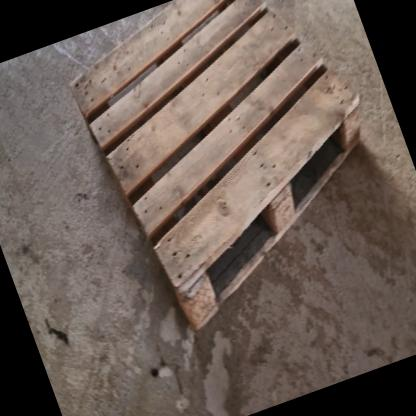BoxFace: (63, 0, 369, 347)
